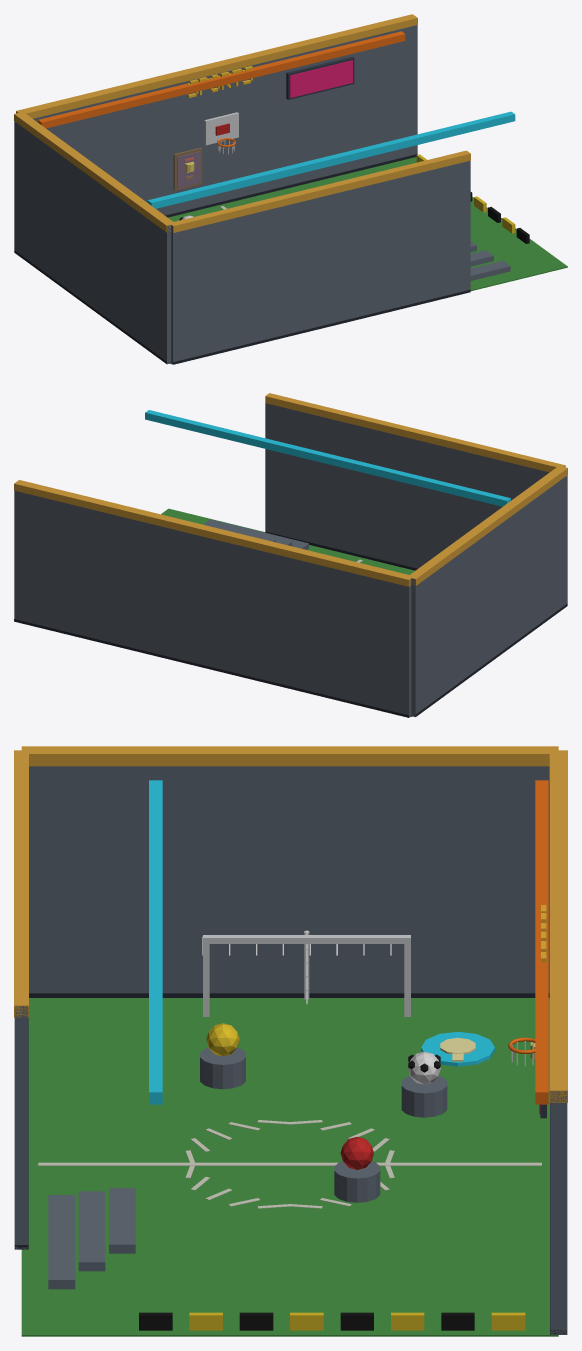
File: sports.glb
3 renders of one model, top to bottom at view 1: azimuth 30°, elevation 25°; view 2: azimuth 150°, elevation 25°; view 3: azimuth 270°, elevation 25°, orthographic. The views are drawn at different scales.
Visible parts, largest first — view 1: sports; view 2: sports; view 3: sports.
Part boxes in pixels (bbox=[...]): sports: bbox=[14, 14, 567, 364]; sports: bbox=[14, 393, 567, 717]; sports: bbox=[14, 746, 567, 1336].
Bounding box in the file's own units: 24.28 × 8.08 × 16.5.
